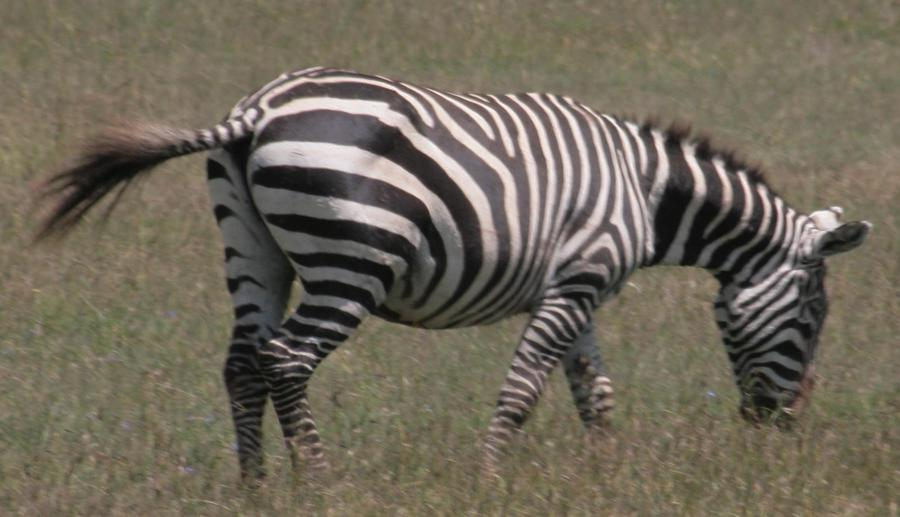zebra_plains: (255, 51, 675, 367)
